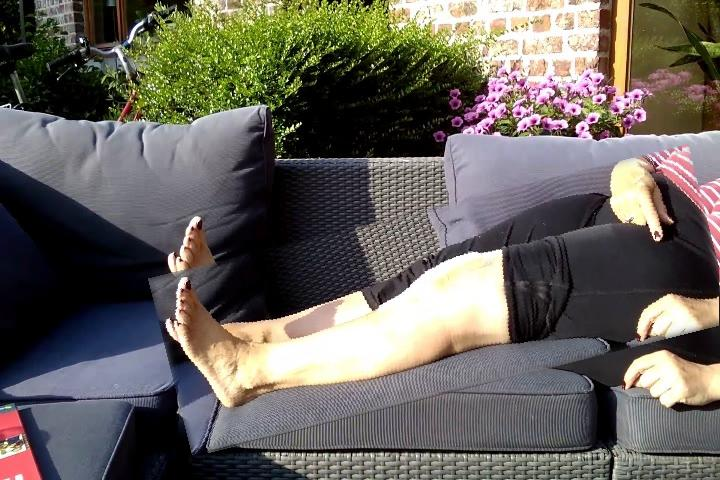lower_body: (156, 177, 720, 426)
